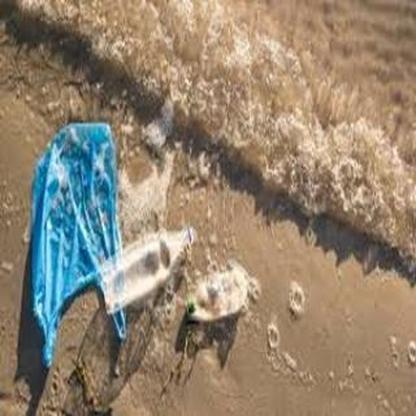plastic bag: (31, 121, 135, 368)
plastic bottle: (99, 227, 195, 311), (184, 264, 247, 318)
